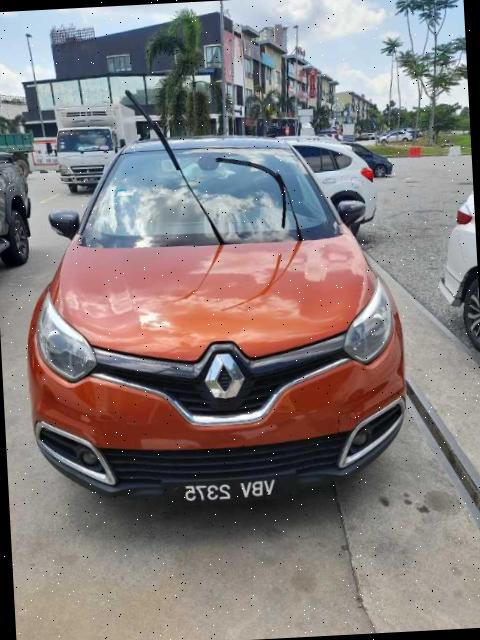License_Plate: (180, 478, 278, 506)
car: (16, 125, 414, 512)
